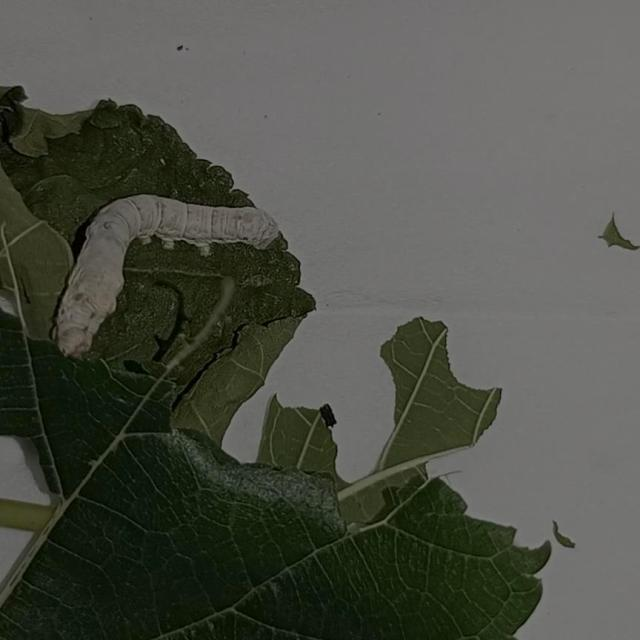Healthy: (33, 177, 309, 379)
